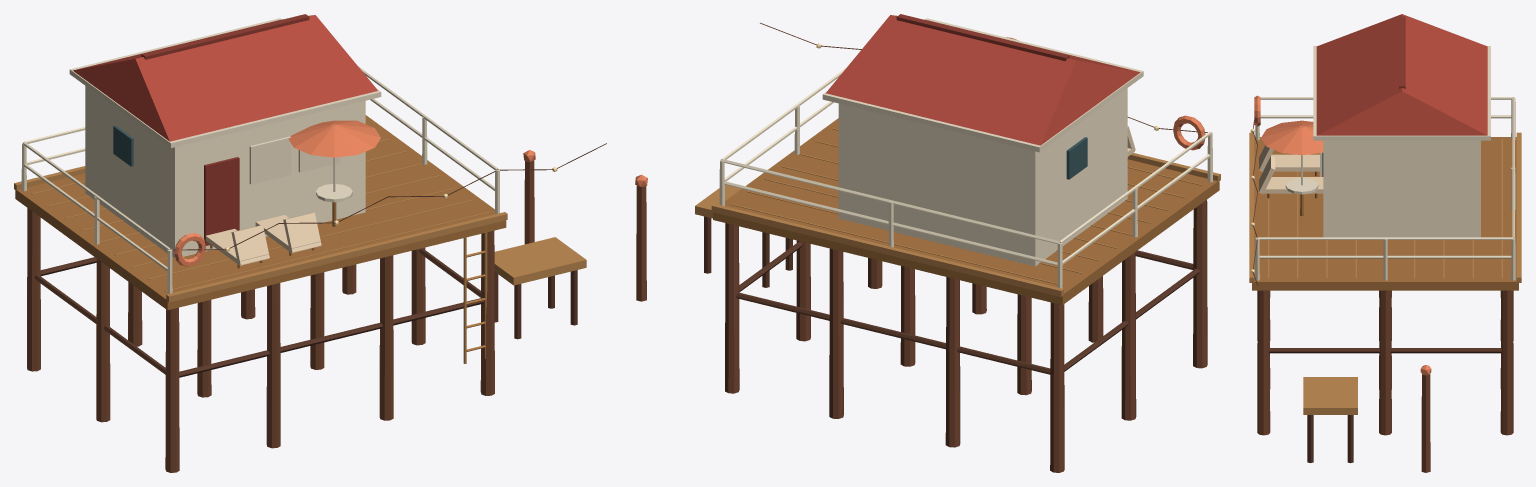
Rendered from bay-waterhouse.glb.
3 renders of one model, left to right at view 1: azimuth 30°, elevation 25°; view 2: azimuth 150°, elevation 25°; view 3: azimuth 270°, elevation 25°, orthographic. The views are drawn at different scales.
Visible parts, largest first — view 1: GEO-wh_deck, GEO-wh_walls, GEO-wh_roof, GEO-wh_deck_edge_-1, GEO-wh_float_deck, GEO-wh_eave, GEO-wh_door, GEO-wh_parasol, GEO-wh_pile_0_0, GEO-wh_pile_2_0, GEO-wh_pile_1_0, GEO-wh_pile_0_1 (+18 smaller); view 2: GEO-wh_walls, GEO-wh_roof, GEO-wh_deck, GEO-wh_deck_edge_1, GEO-wh_eave, GEO-wh_pile_0_2, GEO-wh_pile_2_2, GEO-wh_pile_3_2, GEO-wh_pile_1_2, GEO-wh_pile_0_0, GEO-wh_pile_0_1, GEO-wh_pile_1_1 (+16 smaller); view 3: GEO-wh_deck, GEO-wh_roof, GEO-wh_walls, GEO-wh_float_deck, GEO-wh_pile_3_0, GEO-wh_pile_3_2, GEO-wh_pile_3_1, GEO-wh_eave, GEO-wh_parasol, GEO-wh_mooring, GEO-wh_deck_edge_1, GEO-wh_deck_edge_-1 (+13 smaller).
Part boxes in pixels (x1,y1,x2,y2): GEO-wh_deck: (15,115,506,310); GEO-wh_walls: (85,86,365,258); GEO-wh_roof: (73,15,377,141); GEO-wh_deck_edge_-1: (166,212,507,302); GEO-wh_float_deck: (494,237,586,285); GEO-wh_eave: (69,18,381,147); GEO-wh_door: (204,157,239,245); GEO-wh_parasol: (288,120,380,157); GEO-wh_pile_0_0: (165,307,179,472); GEO-wh_pile_2_0: (379,255,393,420); GEO-wh_pile_1_0: (266,283,280,448); GEO-wh_pile_0_1: (96,259,110,422); GEO-wh_walls: (838,88,1127,266); GEO-wh_roof: (826,15,1140,145); GEO-wh_deck: (713,118,1219,305); GEO-wh_deck_edge_1: (711,204,1063,296); GEO-wh_eave: (822,18,1143,152); GEO-wh_pile_0_2: (1050,302,1064,472); GEO-wh_pile_2_2: (829,248,843,418); GEO-wh_pile_3_2: (725,223,739,393); GEO-wh_pile_1_2: (945,277,960,447); GEO-wh_pile_0_0: (1193,200,1207,368); GEO-wh_pile_0_1: (1121,252,1136,420); GEO-wh_pile_1_1: (1017,294,1031,395); GEO-wh_deck: (1252,137,1518,290); GEO-wh_roof: (1316,14,1487,135); GEO-wh_walls: (1323,140,1480,237); GEO-wh_float_deck: (1303,377,1357,414); GEO-wh_pile_3_0: (1257,290,1270,435); GEO-wh_pile_3_2: (1500,290,1513,435); GEO-wh_pile_3_1: (1379,290,1391,435); GEO-wh_eave: (1313,46,1490,140); GEO-wh_parasol: (1261,120,1323,155); GEO-wh_mooring: (1421,374,1430,472); GEO-wh_deck_edge_1: (1516,132,1521,282); GEO-wh_deck_edge_-1: (1249,132,1254,282).
Size of the model in its own units: 9.92 by 7 by 5.7.
